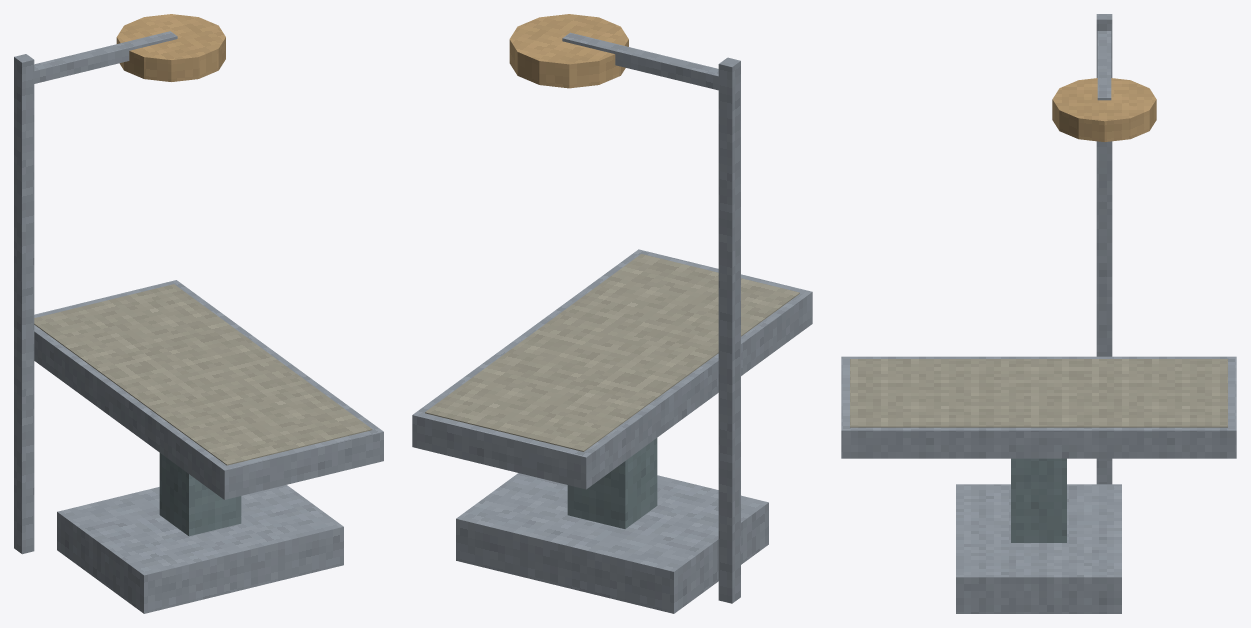
File: level_blockout_hospital_treatment_theatre.glb
3 views of the same model, side by side, from view 1: azimuth 30°, elevation 25°; view 2: azimuth 150°, elevation 25°; view 3: azimuth 270°, elevation 25° (orthographic). The views are drawn at different scales.
Visible parts, largest first — view 1: level_blockout_hospital_treatment_theatre; view 2: level_blockout_hospital_treatment_theatre; view 3: level_blockout_hospital_treatment_theatre.
Part boxes in pixels (left/top/right/bottom): level_blockout_hospital_treatment_theatre: left=14, top=14, right=383, bottom=613; level_blockout_hospital_treatment_theatre: left=412, top=14, right=812, bottom=613; level_blockout_hospital_treatment_theatre: left=841, top=14, right=1236, bottom=613.
Bounding box in the file's own units: 1.42 × 2.77 × 2.05.
4 materials, 4 textured.
